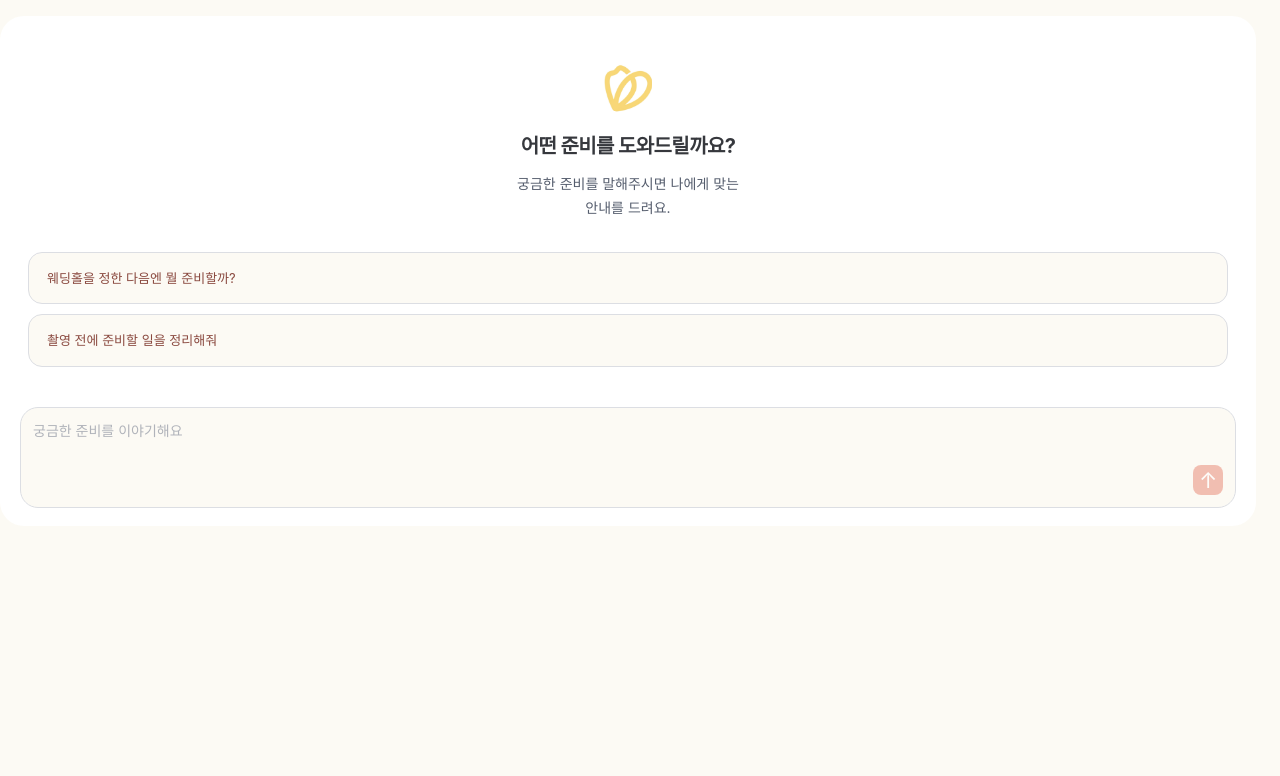
Test: AI 추천 카드 연결 › 완료 전에는 카드를 숨기고 완료 후 서버 순서와 카탈로그 정보를 표시한다
Type "추천해줘" into the text box at (628, 443), box [33,420,1223,465]
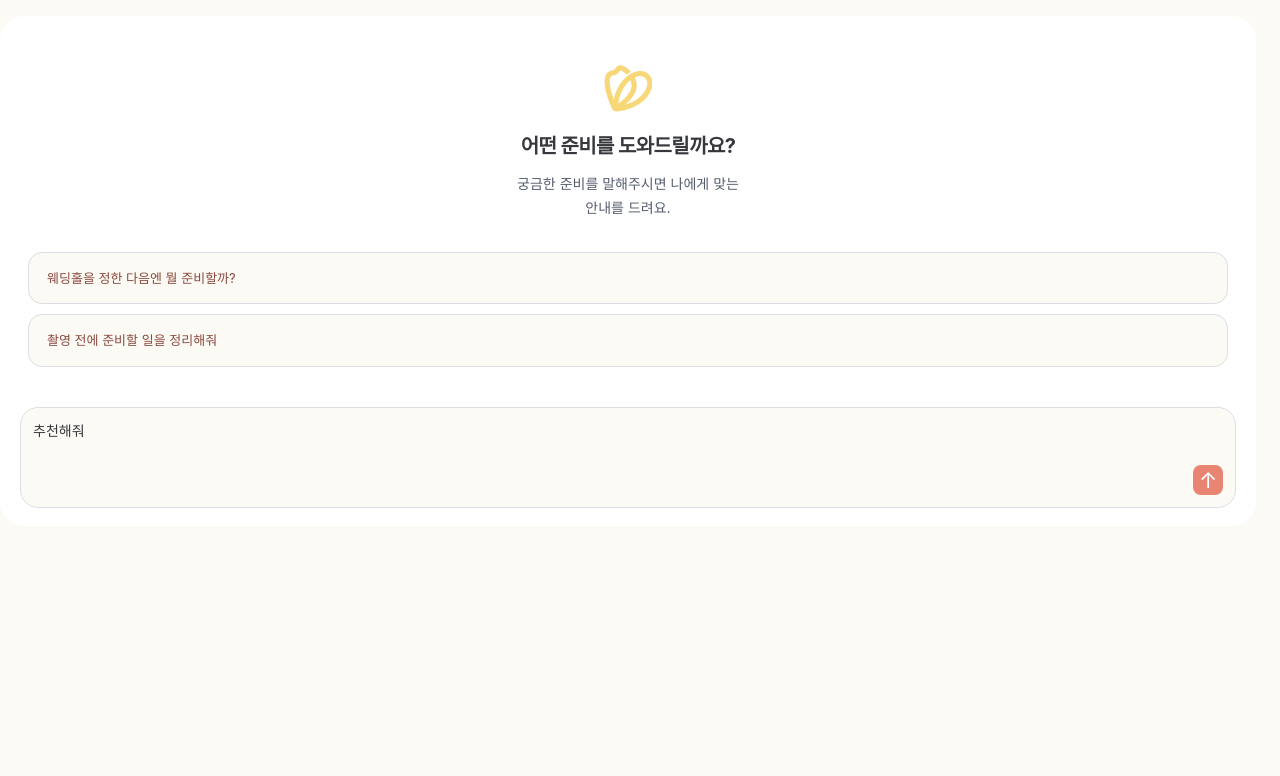
Click the button named "메시지 전송" at (1208, 480), box [1193,465,1223,495]
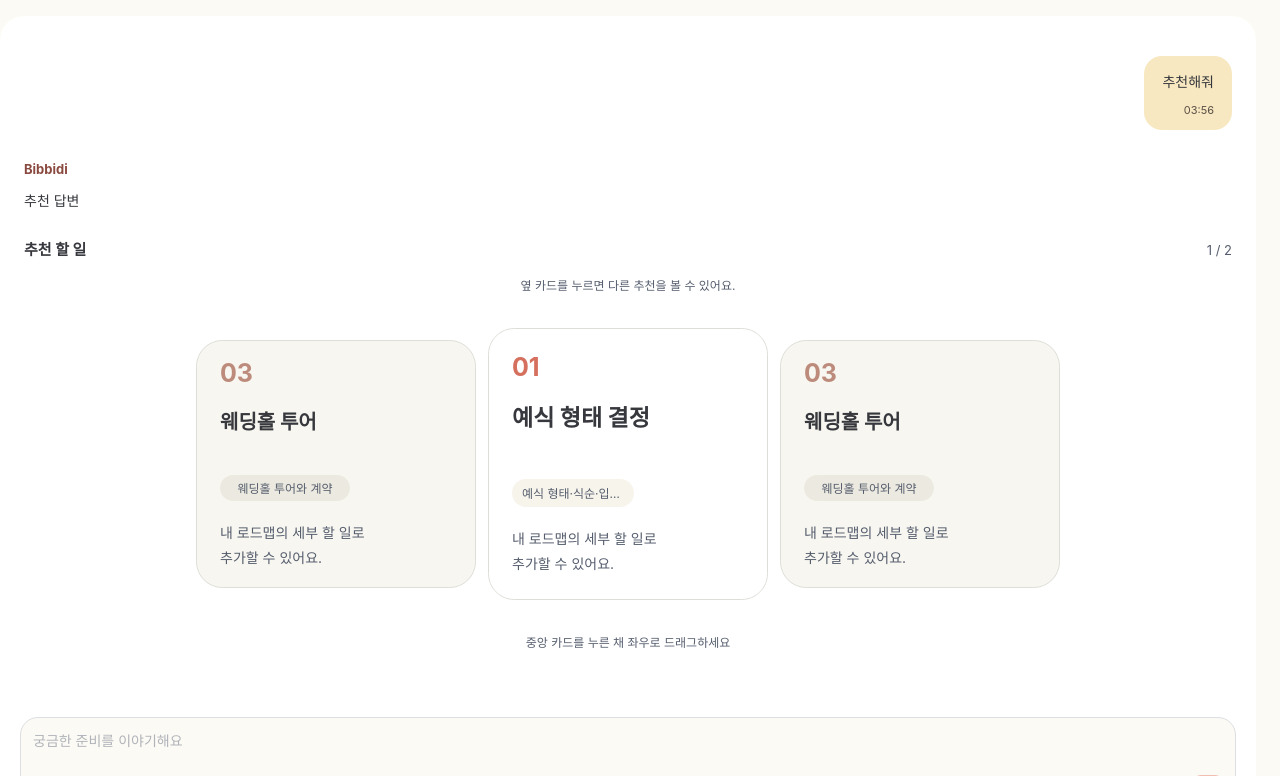
expect the button with aria-label "현재 추천: 예식 형태 결정" is shown: met, box [488,328,768,600]
expect the text "예식 형태·식순·입장 방식 결정" is shown: met, box [522,483,624,504]
expect the text "1 / 2" is shown: met, box [1207,239,1232,262]
